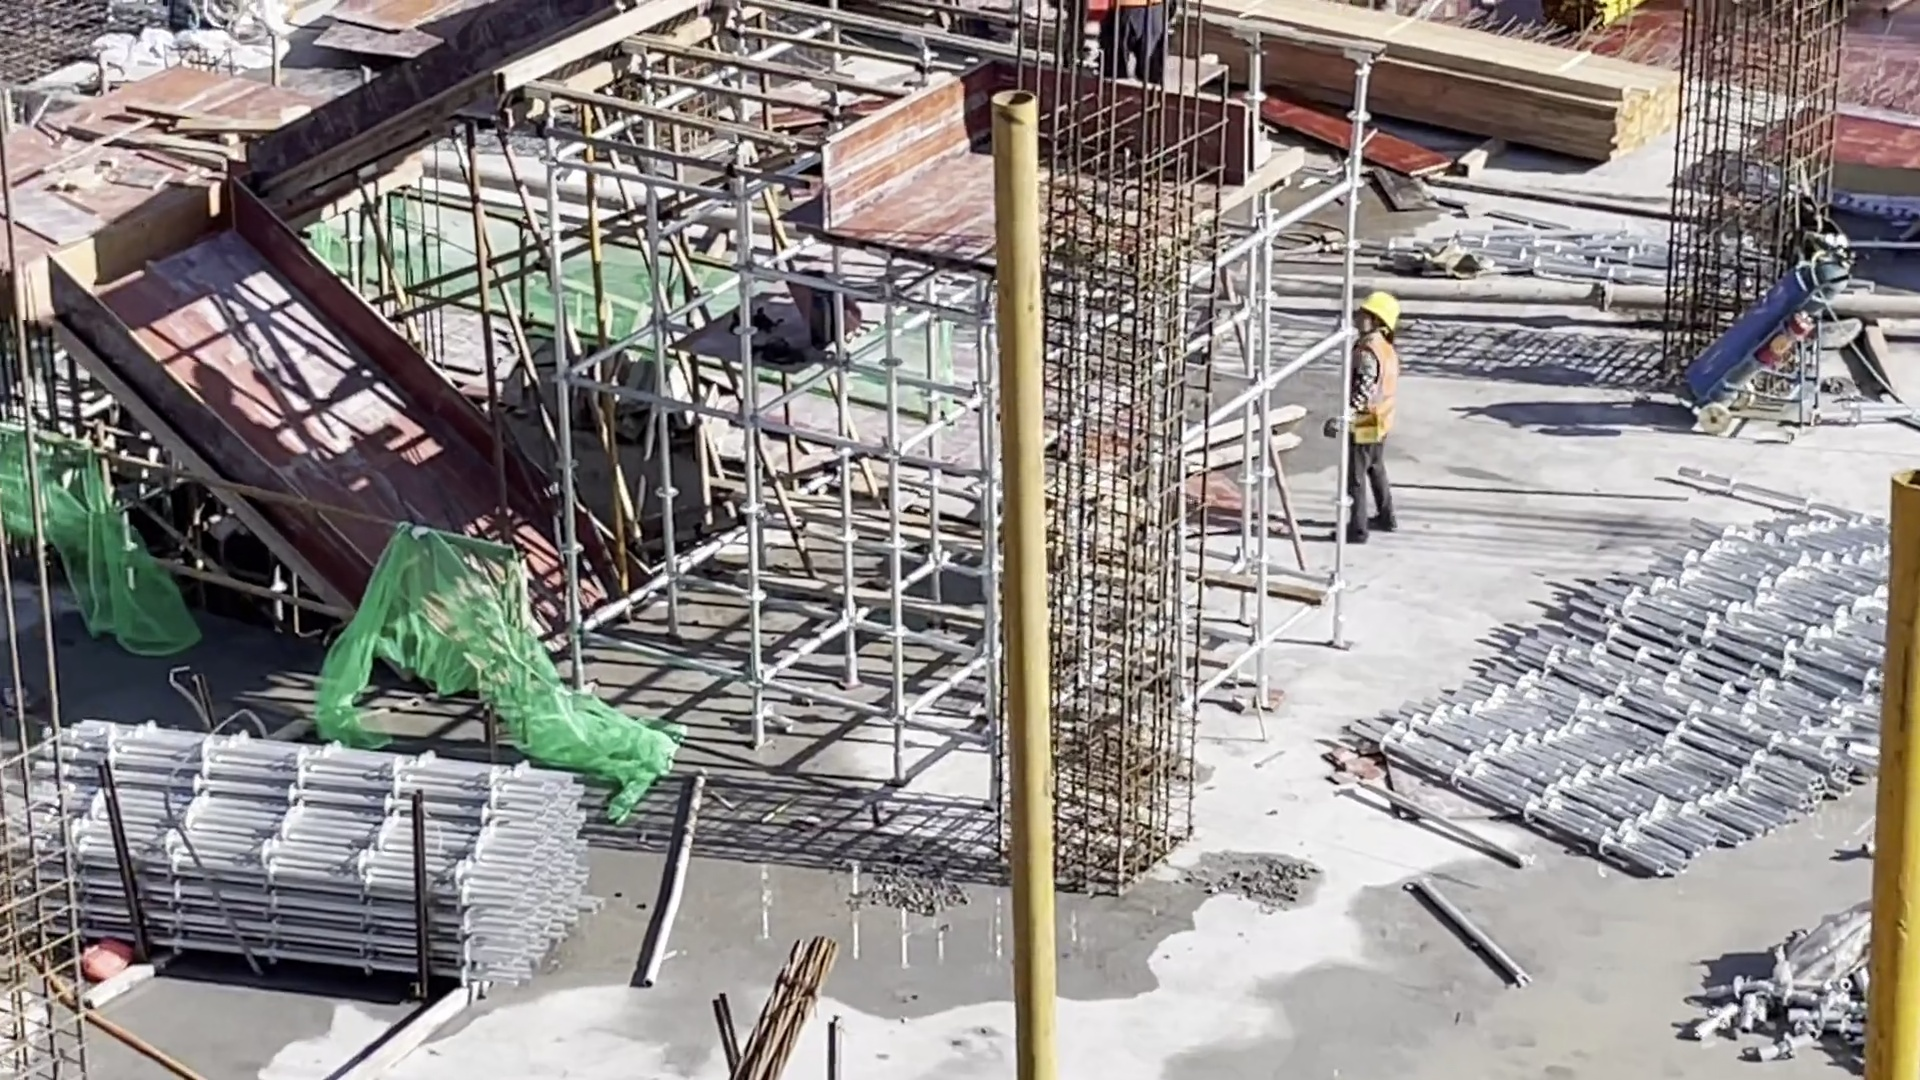helmet: (1362, 294, 1399, 328)
person: (1344, 293, 1404, 552)
scaffold: (1352, 465, 1903, 883), (10, 711, 604, 990)
vest: (1350, 339, 1399, 442)
wood: (1189, 1, 1683, 168)
